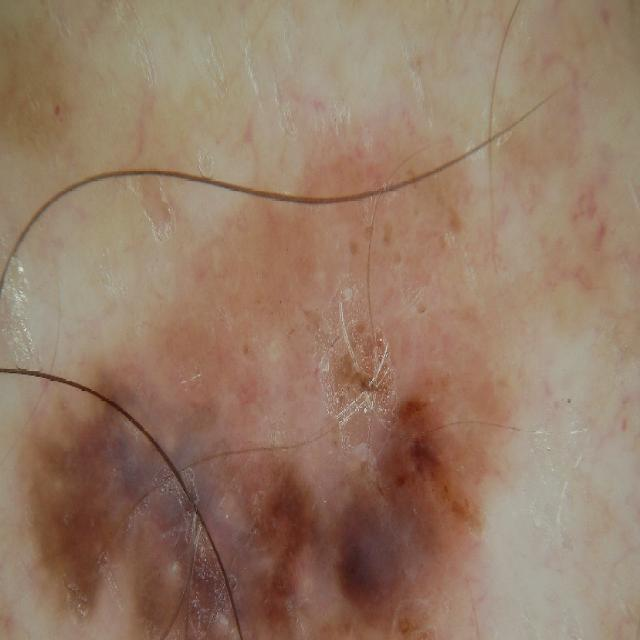Melanoma: (15, 275, 495, 640)
